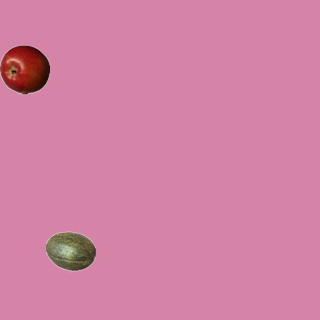Apple Braeburn: (0, 44, 49, 94)
Melon Piel de Sapo: (45, 226, 95, 276)
